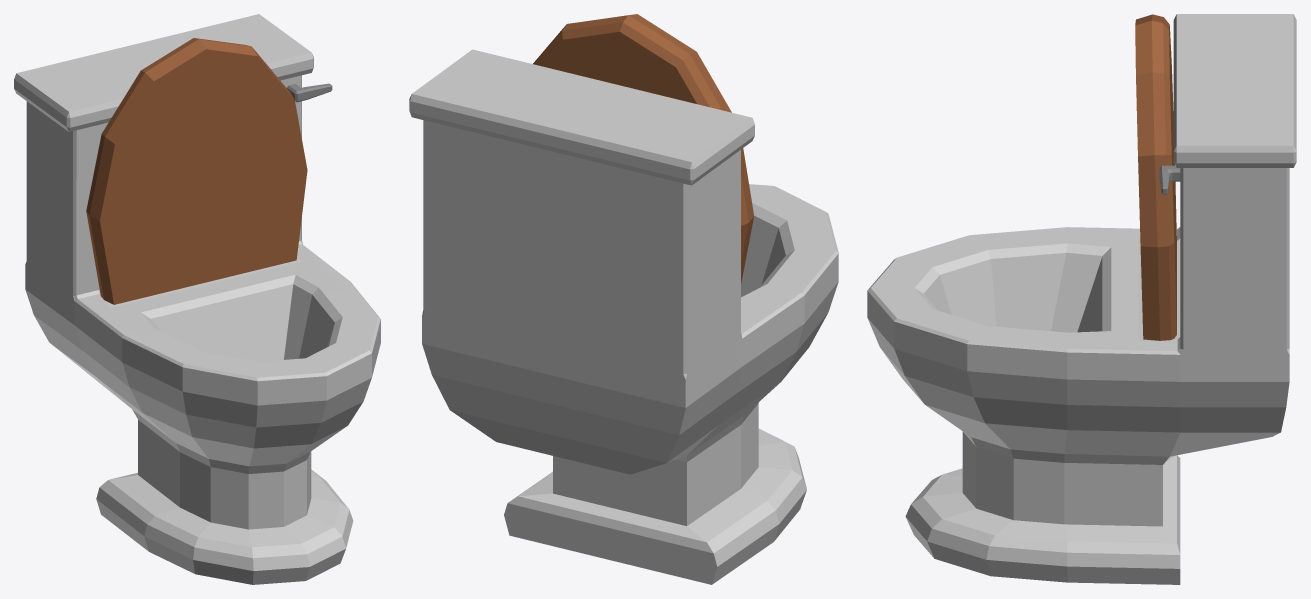
File: toilet.gltf
The picture shows the model from 3 angles, left to right: view 1: azimuth 30°, elevation 25°; view 2: azimuth 150°, elevation 25°; view 3: azimuth 270°, elevation 25°; orthographic projection. The views are drawn at different scales.
Parts seen in each view (by area): view 1: Toilet; view 2: Toilet; view 3: Toilet.
Part boxes in pixels (bbox=[...]): Toilet: bbox=[14, 14, 380, 584]; Toilet: bbox=[409, 14, 838, 584]; Toilet: bbox=[867, 14, 1296, 584].
Bounding box in the file's own units: 2.96 × 5.07 × 3.83.
